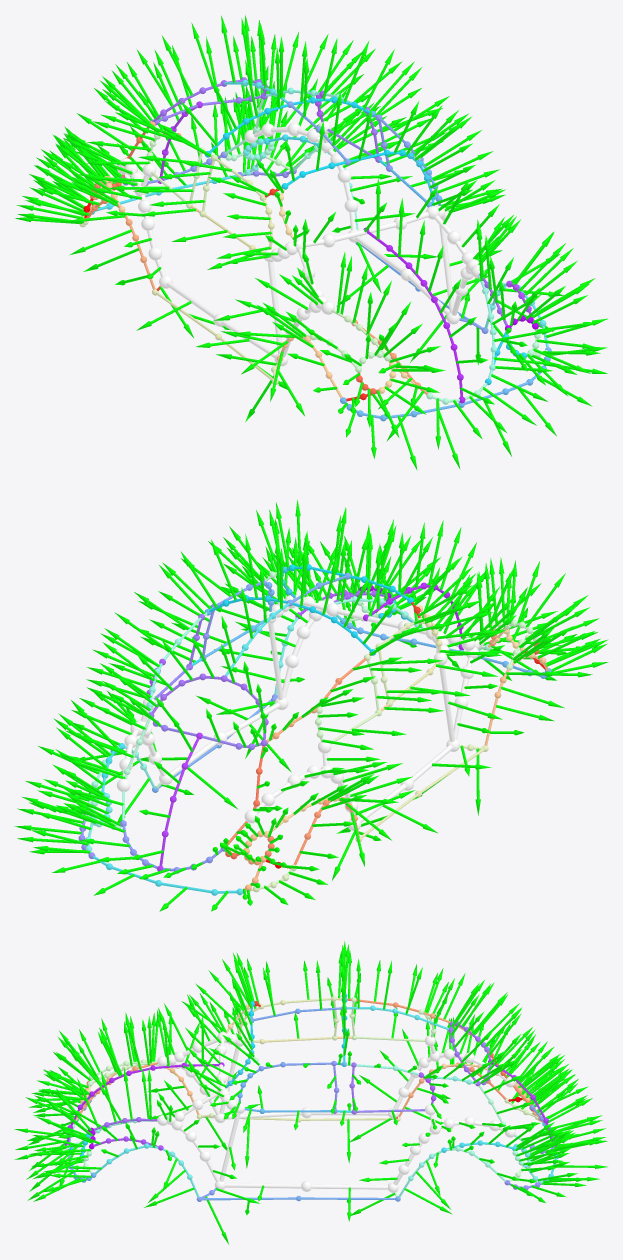
The model's file is flowsurf_beetle.gltf.
The picture shows the model from 3 angles, top to bottom: view 1: azimuth 30°, elevation 25°; view 2: azimuth 150°, elevation 25°; view 3: azimuth 270°, elevation 25°; orthographic projection. The views are drawn at different scales.
Size of the model in its own units: 0.5559 by 0.4813 by 1.07.
